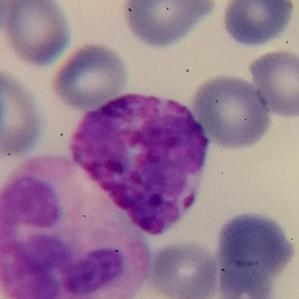Basophil: (66, 80, 216, 234)
RBC: (0, 153, 152, 297), (210, 208, 299, 297), (188, 72, 274, 152), (48, 39, 131, 111), (0, 0, 74, 69), (119, 0, 216, 50), (148, 238, 222, 299), (0, 65, 47, 158), (218, 0, 298, 50), (247, 47, 299, 119), (215, 261, 277, 299), (0, 0, 29, 36)
